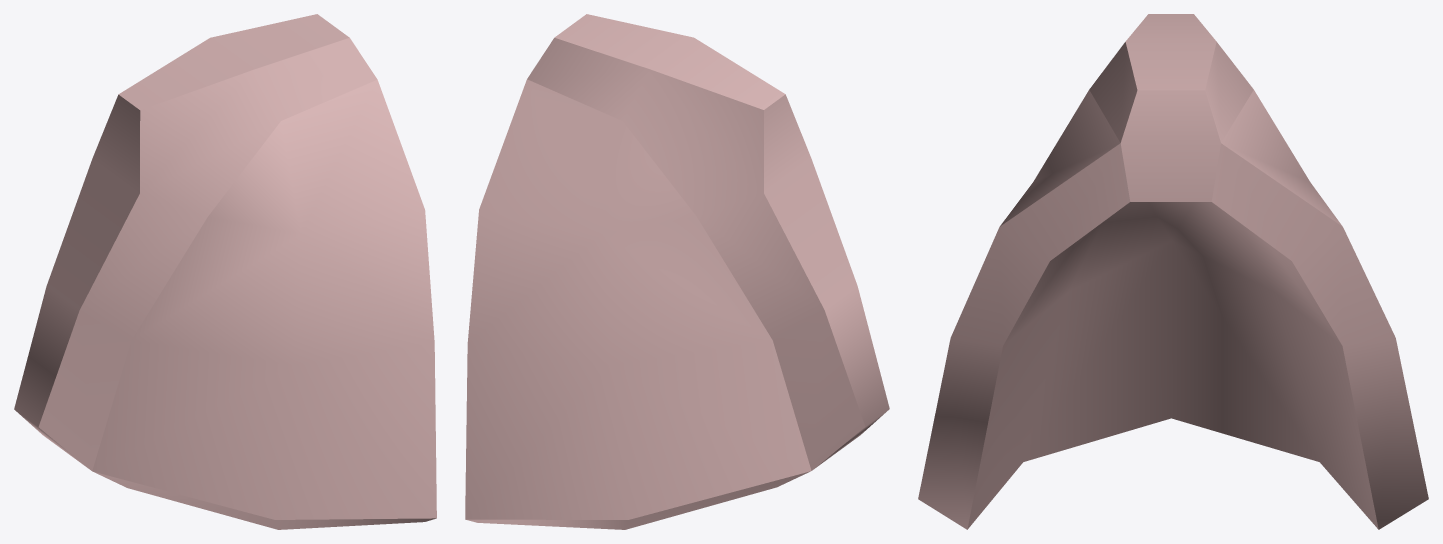
The model's file is Shoudler_BIG.fbx.
3 renders of one model, left to right at view 1: azimuth 30°, elevation 25°; view 2: azimuth 150°, elevation 25°; view 3: azimuth 270°, elevation 25°, orthographic. The views are drawn at different scales.
Parts seen in each view (by area): view 1: pCube1; view 2: pCube1; view 3: pCube1.
Part boxes in pixels (x1=…): pCube1: x1=14, y1=14, x2=436, y2=529; pCube1: x1=465, y1=14, x2=889, y2=529; pCube1: x1=918, y1=14, x2=1428, y2=529.
Bounding box in the file's own units: 0.5366 × 0.6432 × 0.6728.
